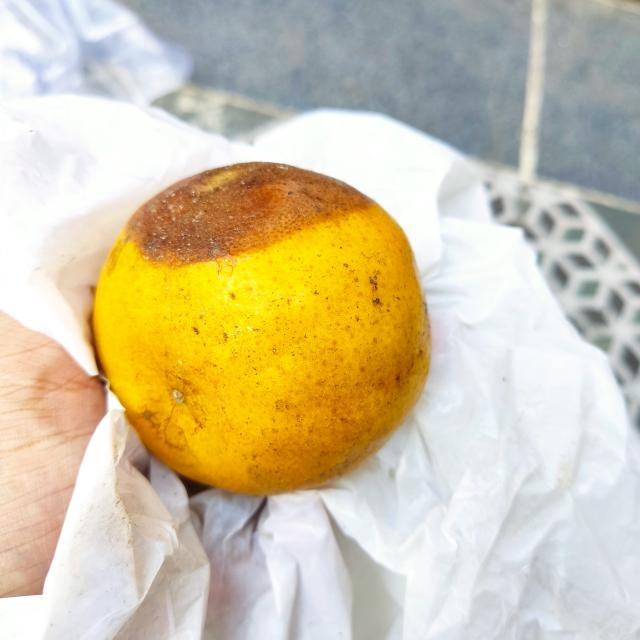agrume: (95, 163, 433, 493)
